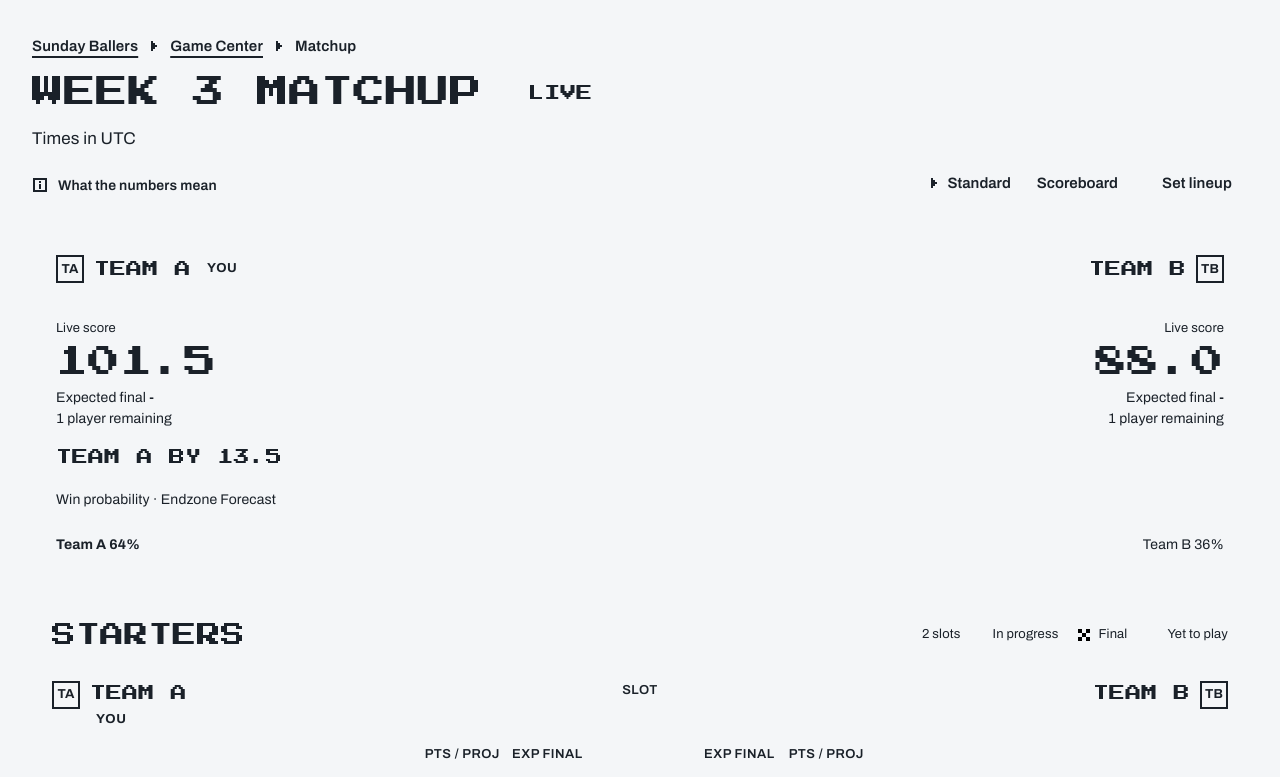
the Scoreboard view's field caption reads Celebrations off once the preference read says off
The image size is (1280, 777).
Click the radio button labelled "Scoreboard" at (1077,183), box [1023,161,1132,205]
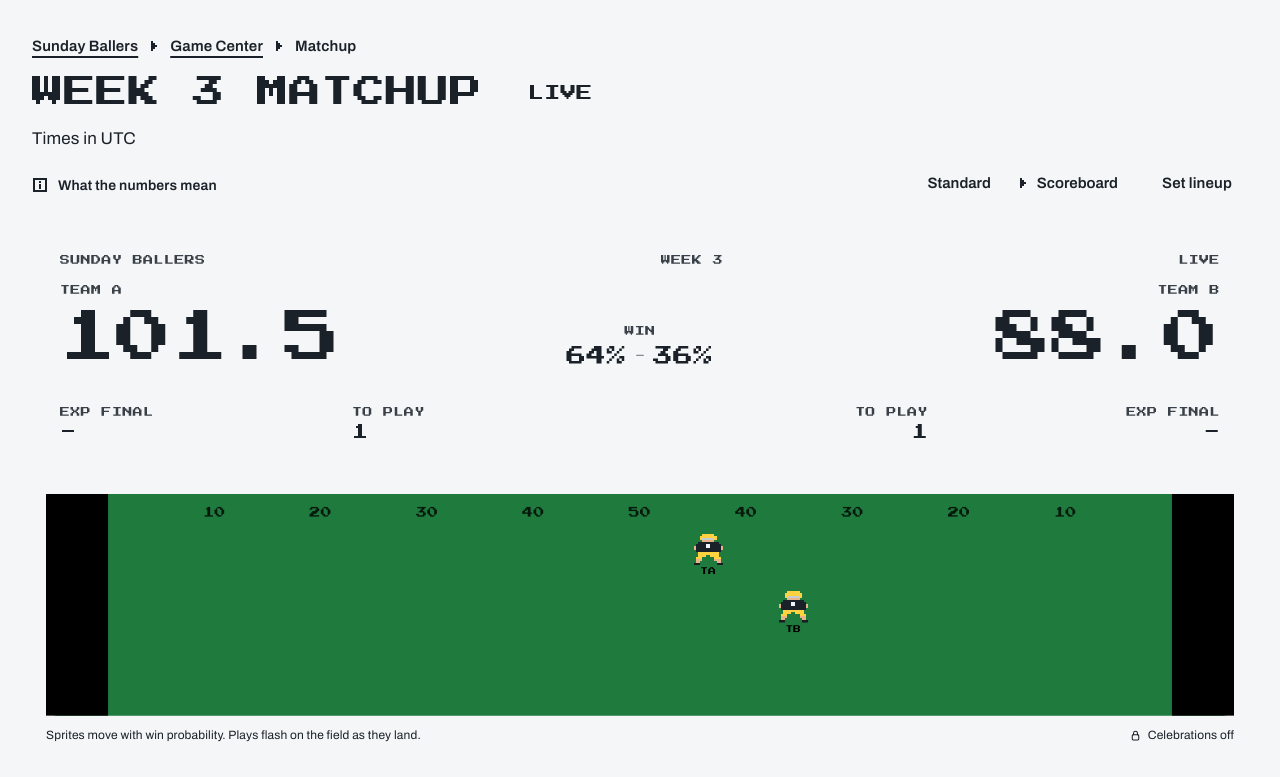
Expected: the element with test id "celebrations-caption" reads "Celebrations off", [1148,728,1234,742]
